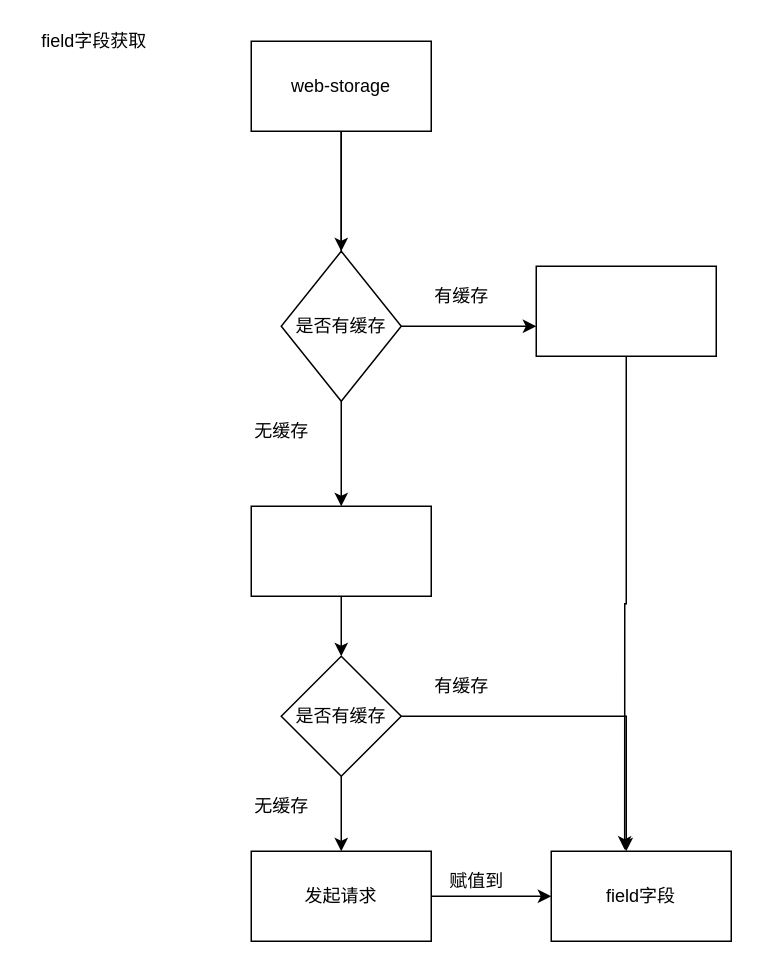
This 758x968 diagram has some shape labels left out. Each missing label, with the centre of its shape:
store(cached): (x=340, y=550)
web-sotrage赋值到store: (x=625, y=310)
